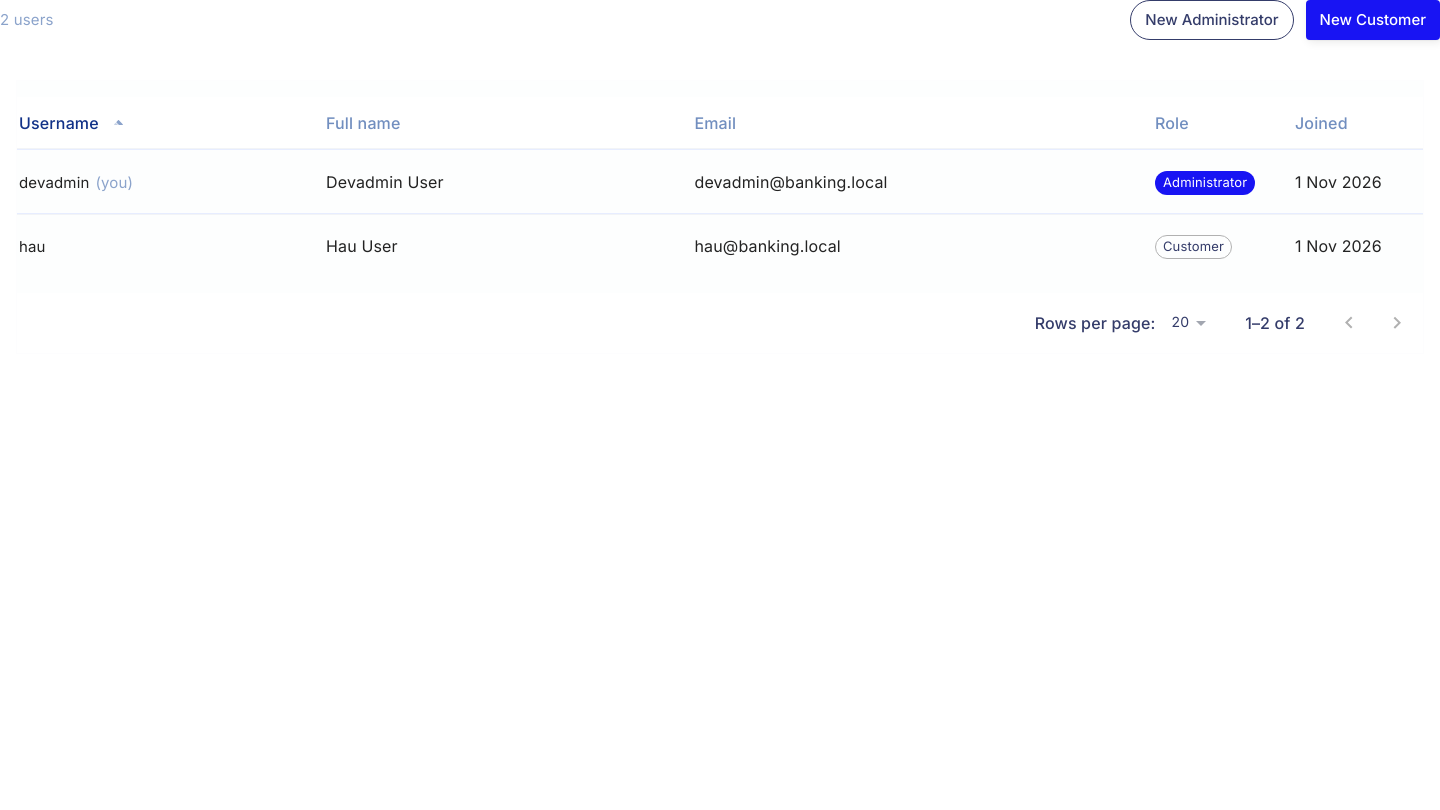
Test: admin users page › deletes a user after confirming and refreshes the list
The width and height of the screenshot is (1440, 810).
Click the text "hau". click: (32, 246)
box: [19,237,46,256]
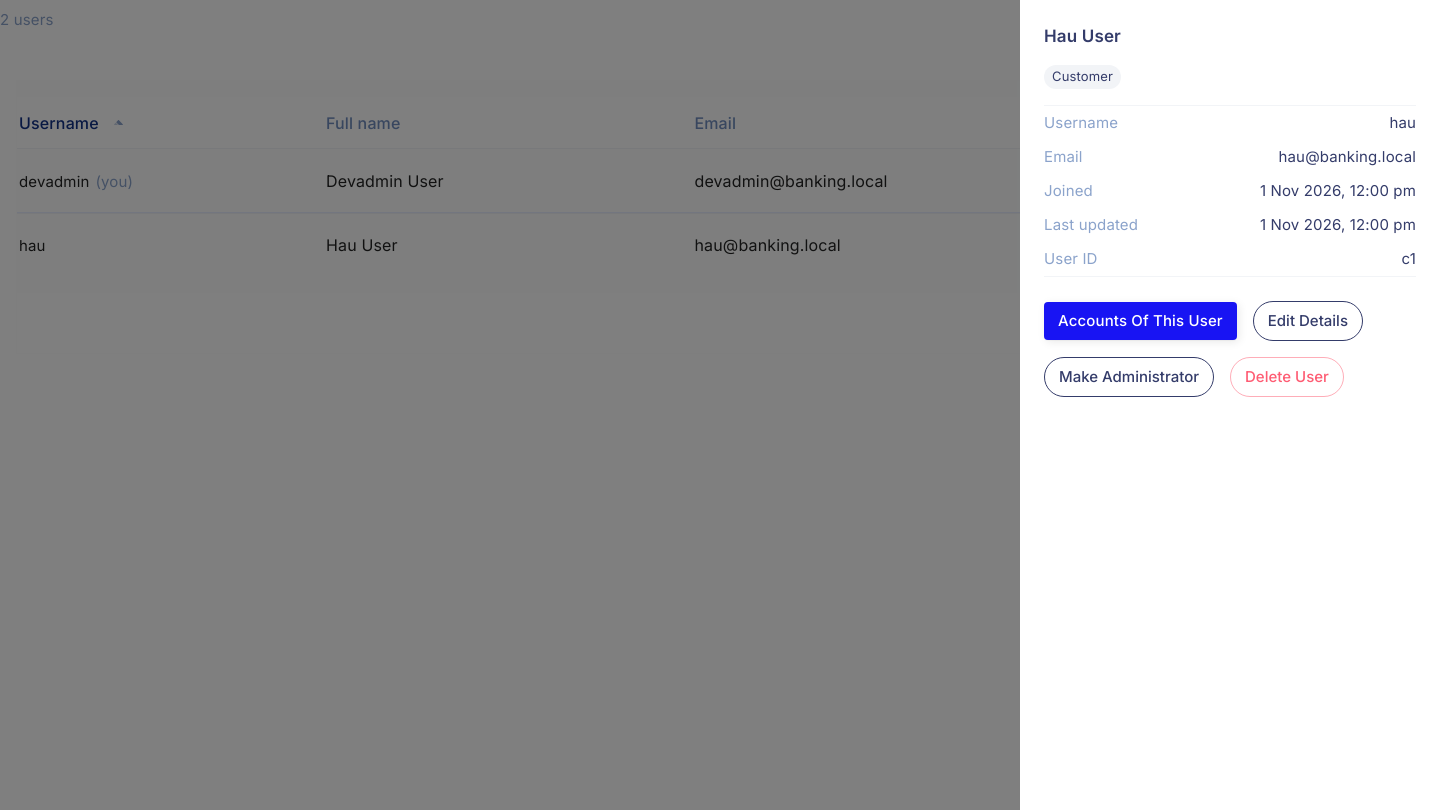
Click the button "Delete user". click: (1287, 377)
box: [1230,357,1344,397]
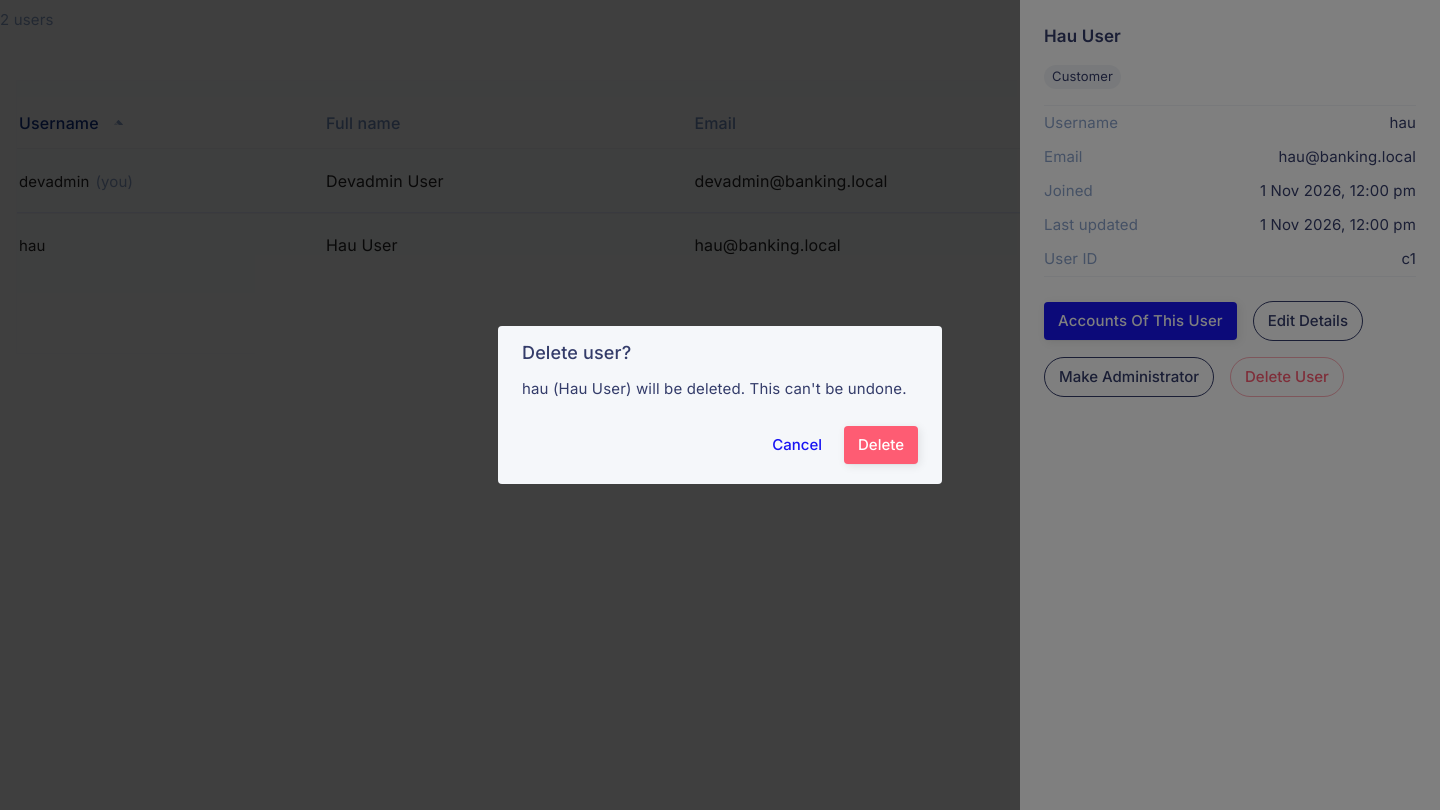
Click the button "Delete". click: (881, 445)
box: [844,426,918,464]
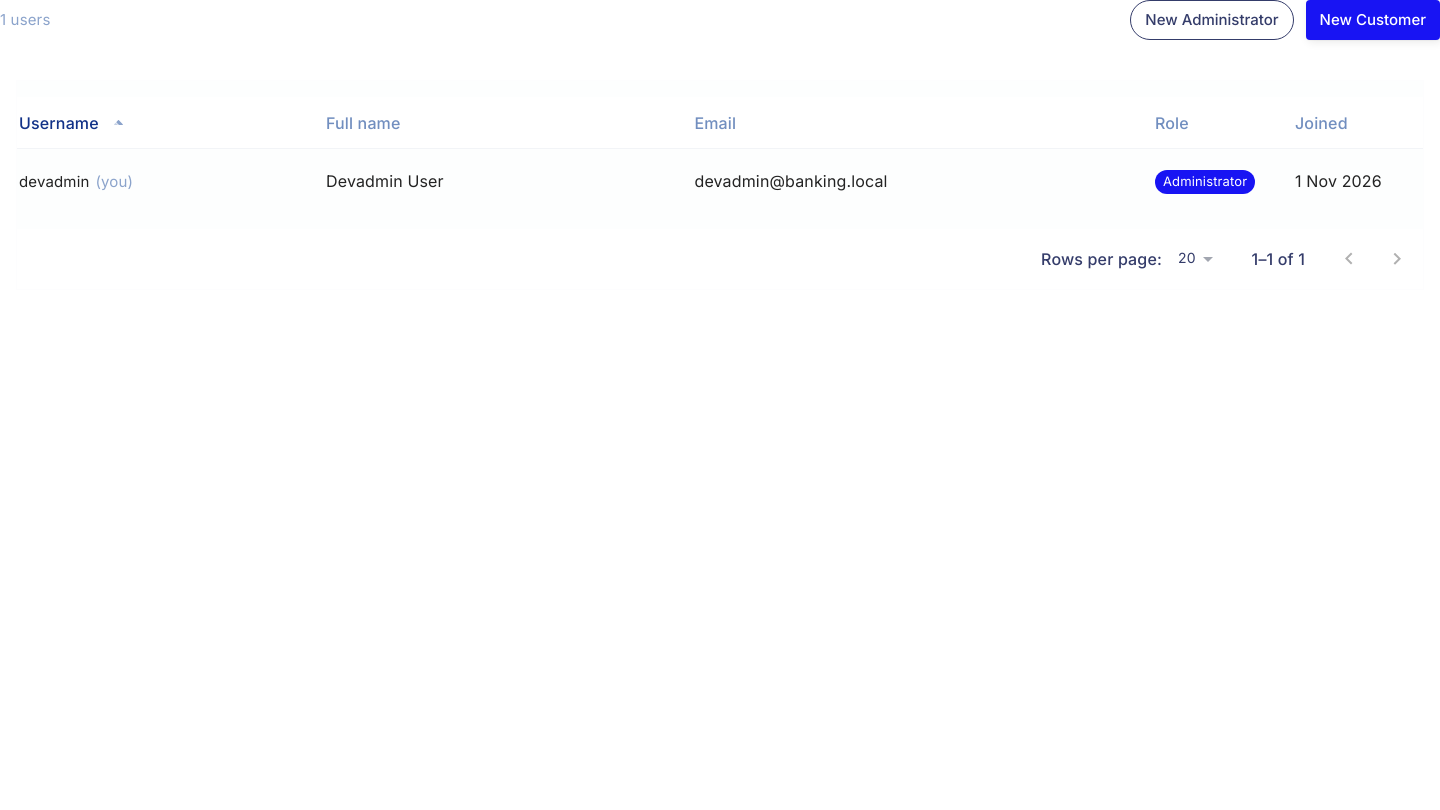
Expected: the text "1 users" is shown, [0,11,50,29]
Expected: the text "hau" is gone
